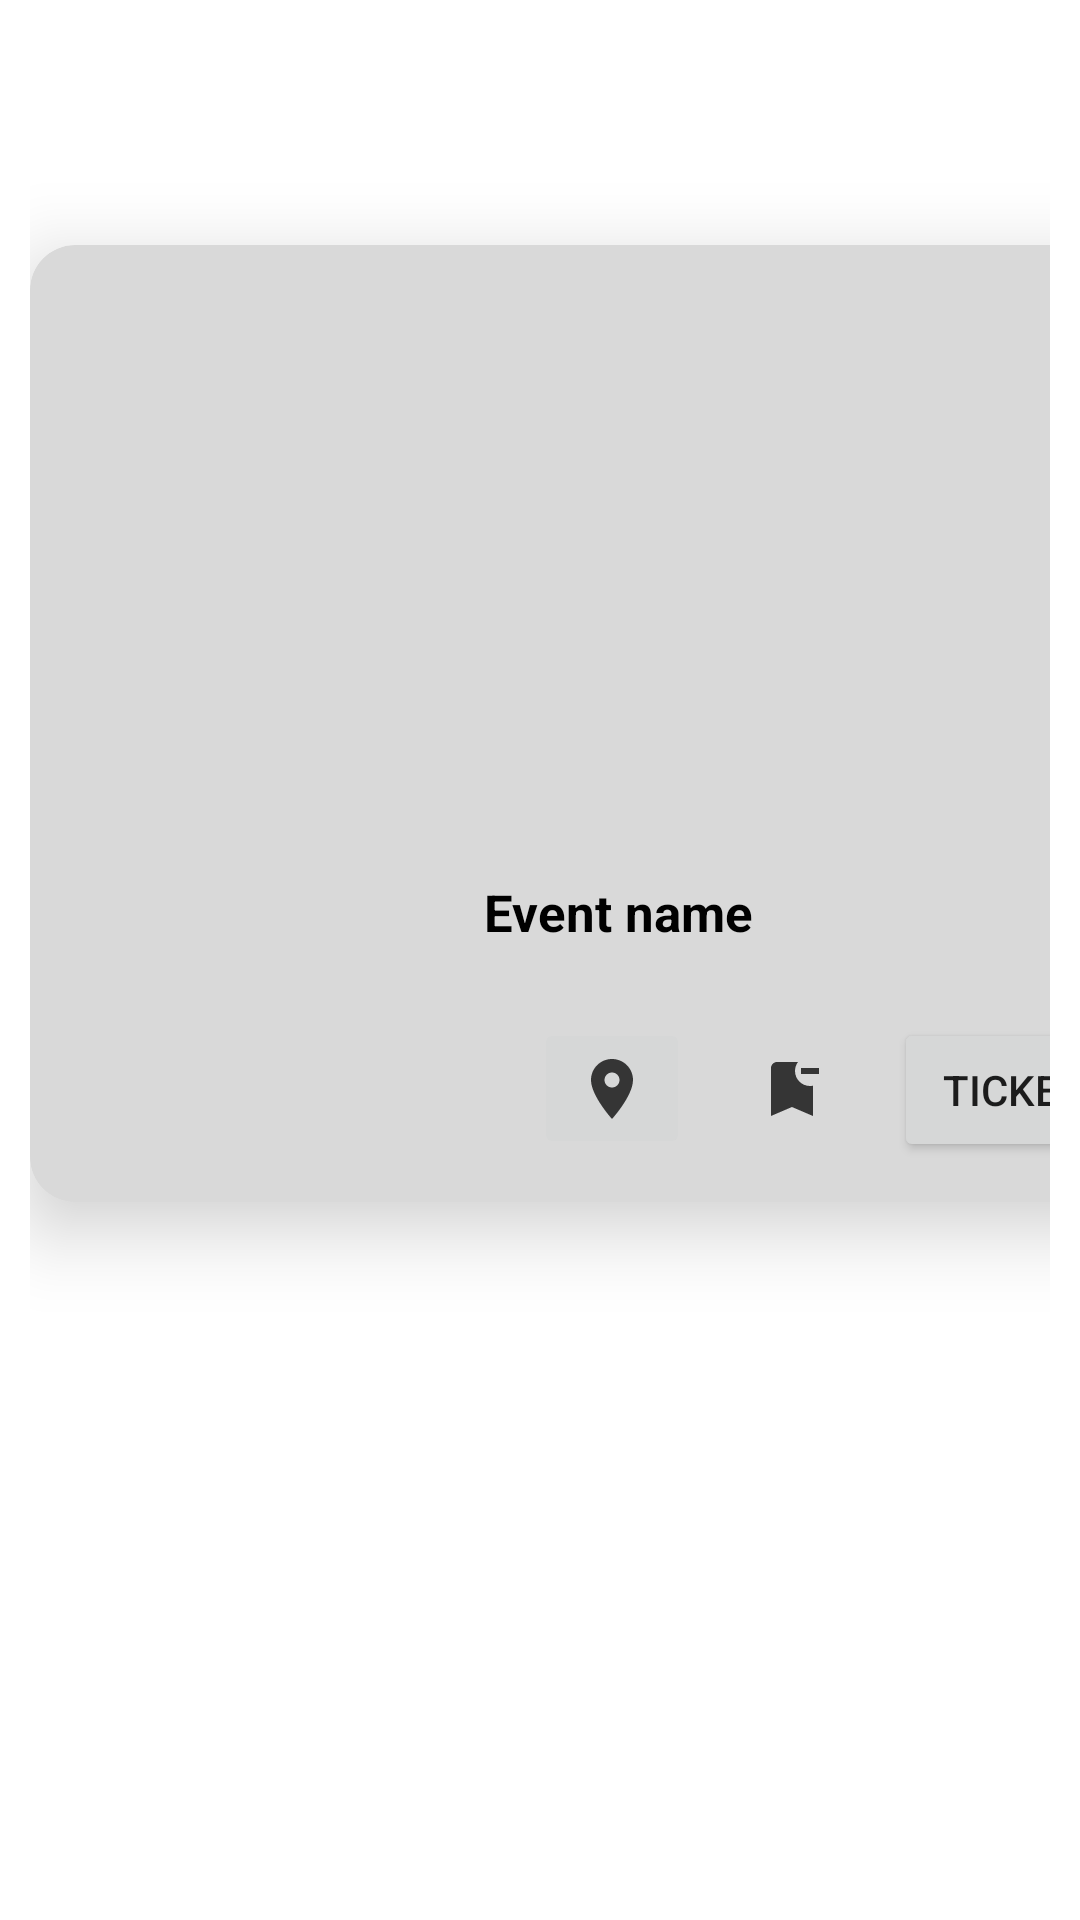

Icon bounding boxes for this 1080x1920 phone screenshot, format [x1=x1, y1=y1, x2=x2, y2=y2]:
bookmark remove: [x1=771, y1=1062, x2=819, y2=1116]
location on: [x1=591, y1=1059, x2=633, y2=1119]
